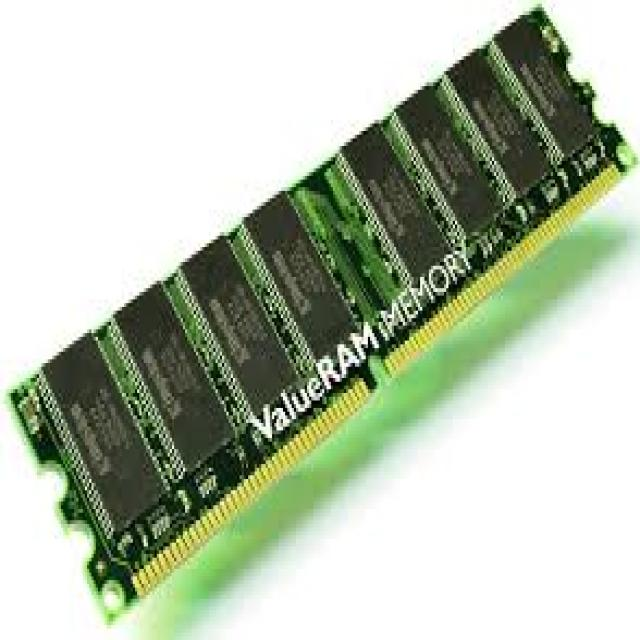Ram: (45, 91, 550, 584)
